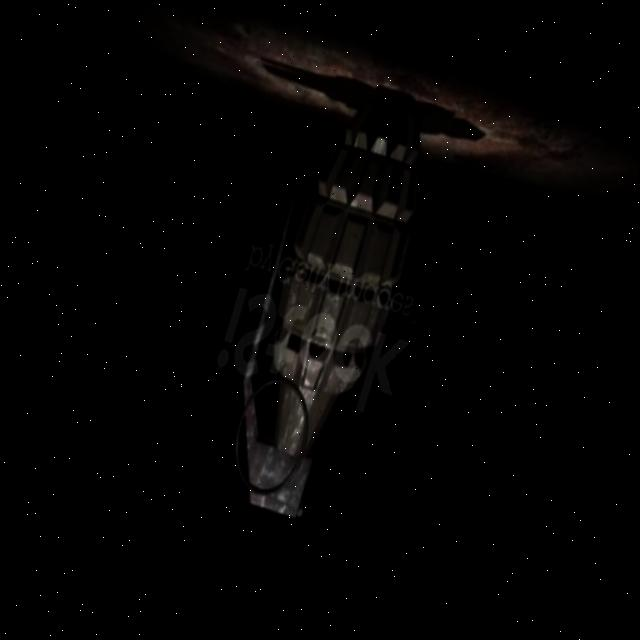grenade: (199, 57, 457, 541)
